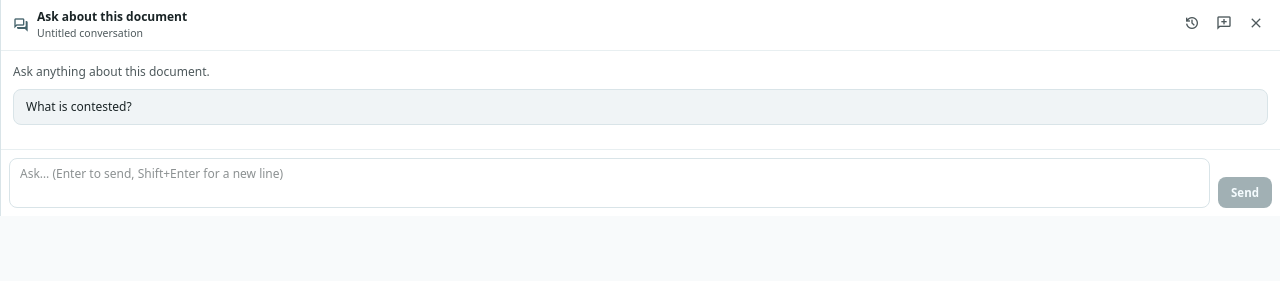
Test case: streams an answer token by token and links citations into the reader
Click the button "What is contested?". click: (79, 106)
box: x1=13 y1=89 x2=1268 y2=125
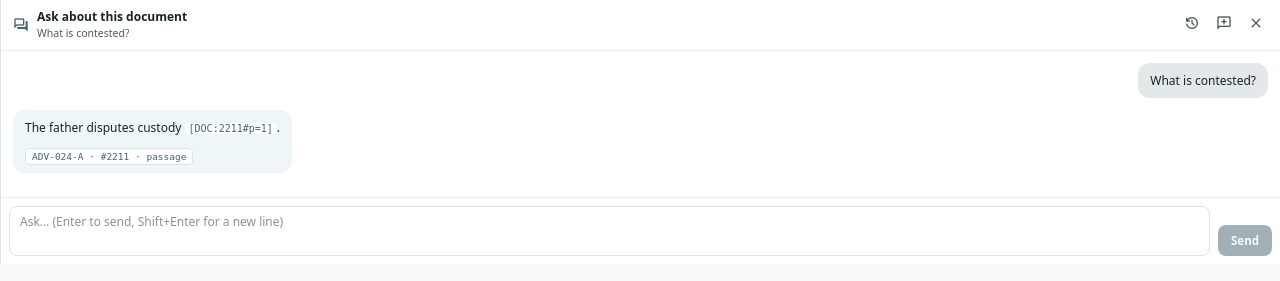
Now the text "disputes custody" is shown, box x1=25 y1=119 x2=185 y2=136
